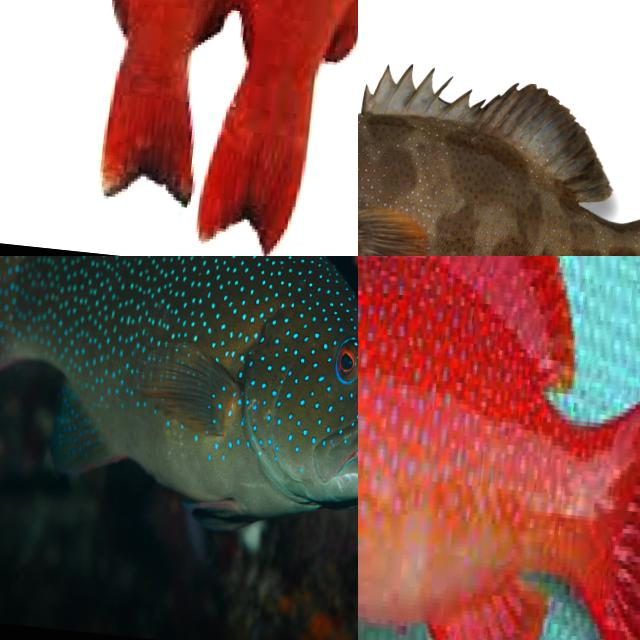Plectropomus-leopardus: (358, 256, 640, 640), (0, 256, 358, 546), (9, 0, 358, 256), (358, 9, 640, 256), (106, 0, 111, 8)
